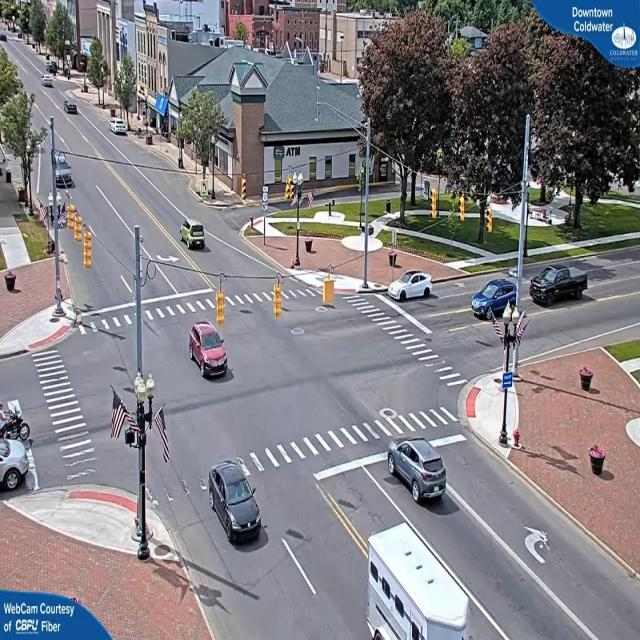car: (208, 459, 264, 547), (388, 438, 448, 505), (190, 321, 232, 378), (530, 266, 587, 308), (0, 433, 36, 494), (472, 279, 517, 319), (386, 270, 434, 300), (180, 220, 206, 251), (111, 120, 128, 136)
